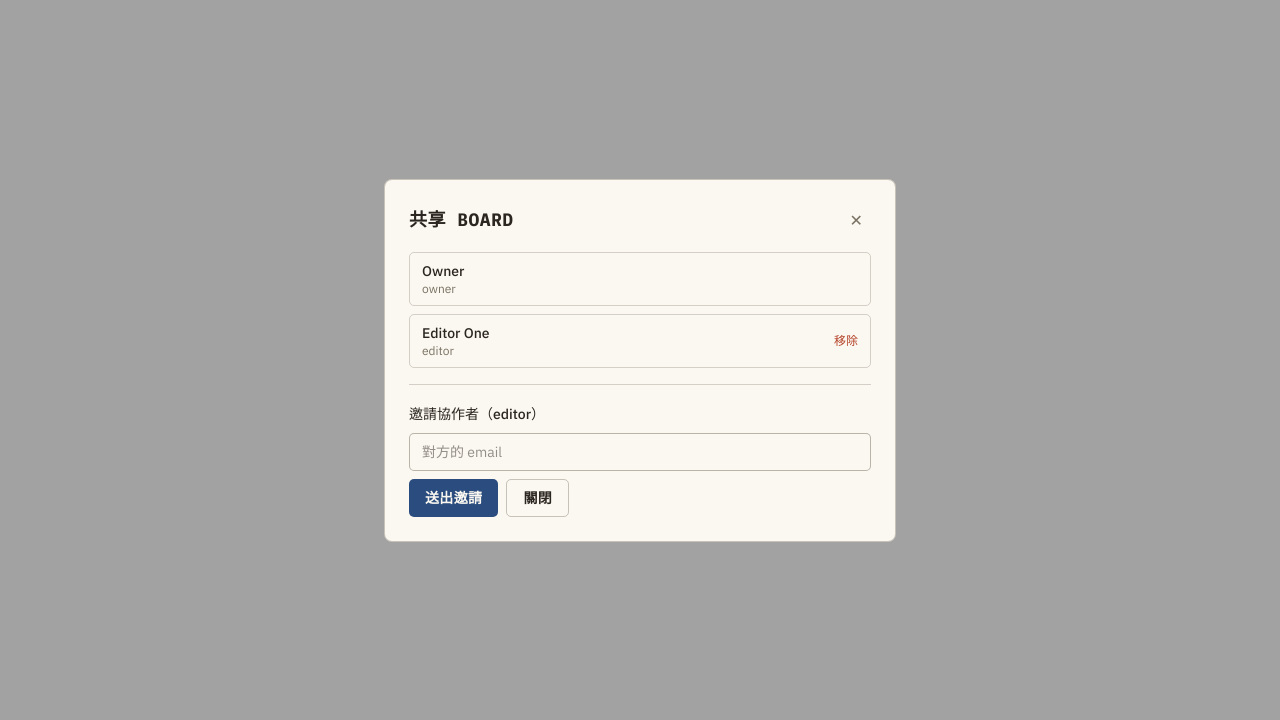
Test: BoardSharingPanel › requires an email before inviting
Expected: the text "Owner" is shown, [422,260,464,280]
Click the button "送出邀請" at (454, 498), box [409,478,498,516]
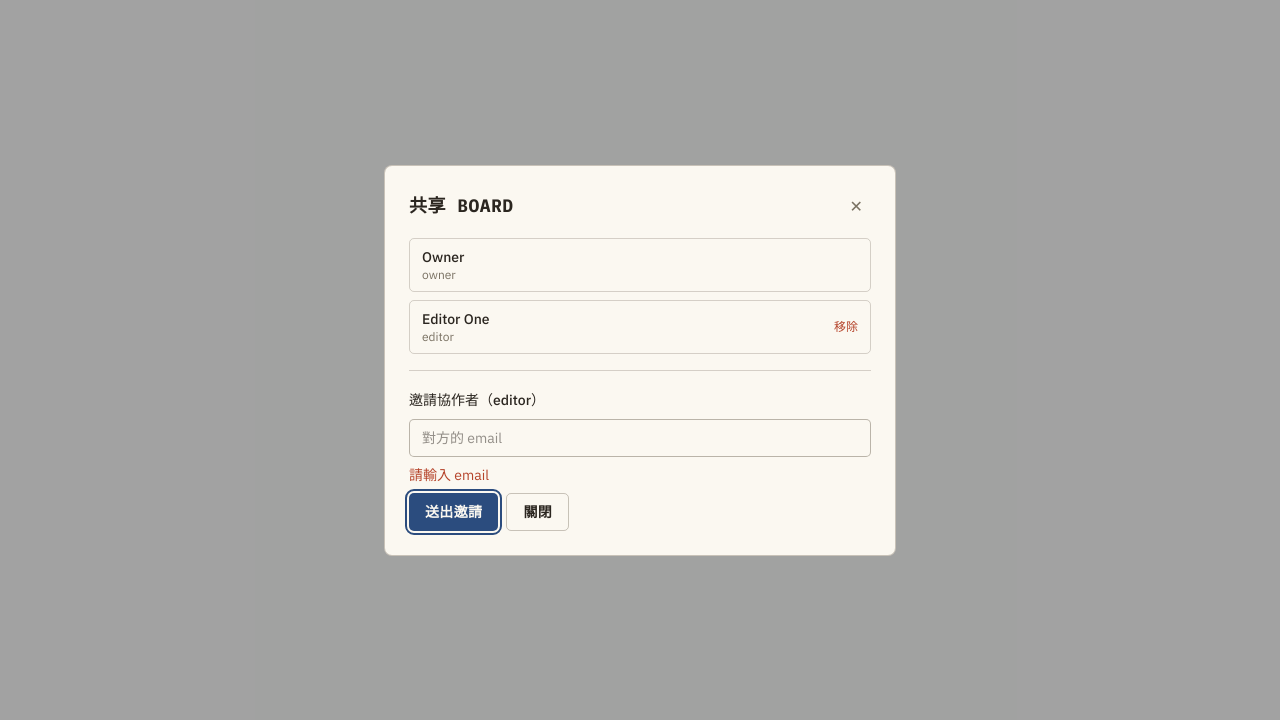
Expected: the text "請輸入 email" is shown, [409,466,489,484]
